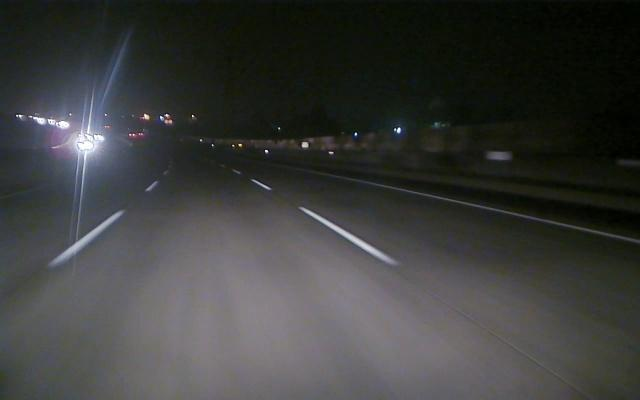lane: (346, 178, 637, 244), (254, 180, 402, 264), (47, 181, 157, 268)
